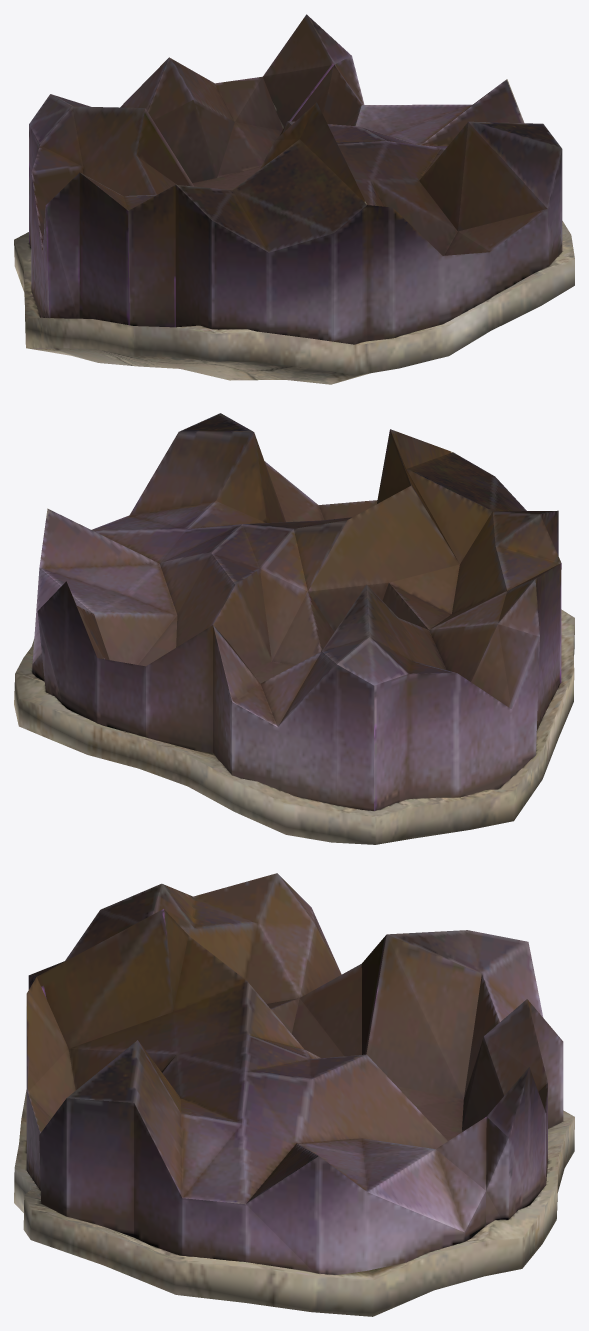
The model's file is AmethystGeode.glb.
3 renders of one model, top to bottom at view 1: azimuth 30°, elevation 25°; view 2: azimuth 150°, elevation 25°; view 3: azimuth 270°, elevation 25°, orthographic. The views are drawn at different scales.
Parts seen in each view (by area): view 1: AmethystGeode; view 2: AmethystGeode; view 3: AmethystGeode.
Part boxes in pixels (<box>): AmethystGeode: <box>14,14,574,384</box>; AmethystGeode: <box>14,413,574,844</box>; AmethystGeode: <box>14,873,574,1316</box>.
Size of the model in its own units: 0.4821 by 0.2757 by 0.4277.
1 material, 1 textured.
